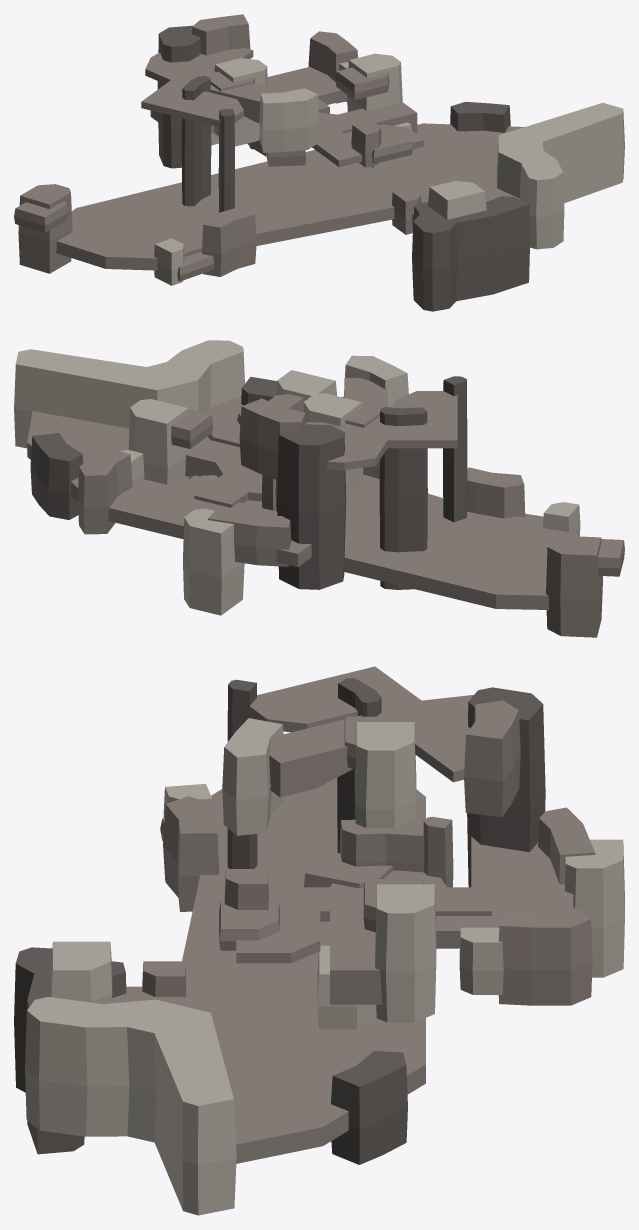
Rendered from ENV1.fbx.
3 renders of one model, top to bottom at view 1: azimuth 30°, elevation 25°; view 2: azimuth 150°, elevation 25°; view 3: azimuth 270°, elevation 25°, orthographic. The views are drawn at different scales.
Parts seen in each view (by area): view 1: Cube; view 2: Cube; view 3: Cube.
Part boxes in pixels (x1,y1,x2,y2): Cube: (14, 14, 624, 311); Cube: (14, 340, 624, 637); Cube: (14, 666, 624, 1215).
Size of the model in its own units: 65072 by 21637 by 38895.
